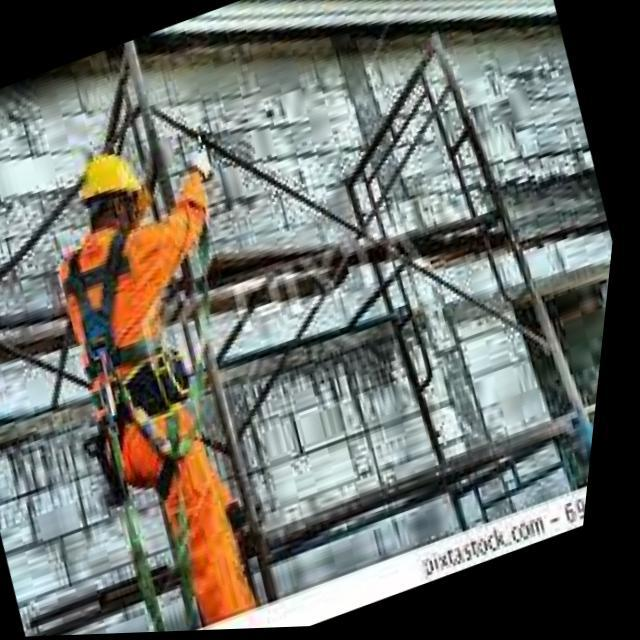belt: (23, 198, 253, 516)
